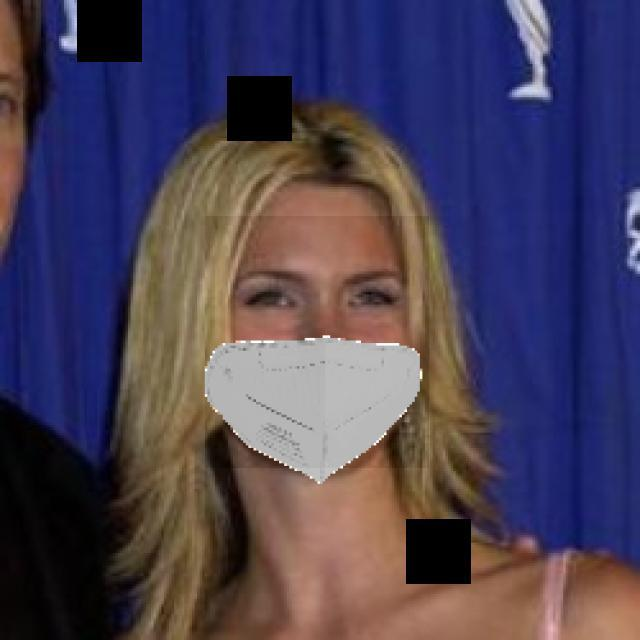kn95: (205, 216, 429, 468)
